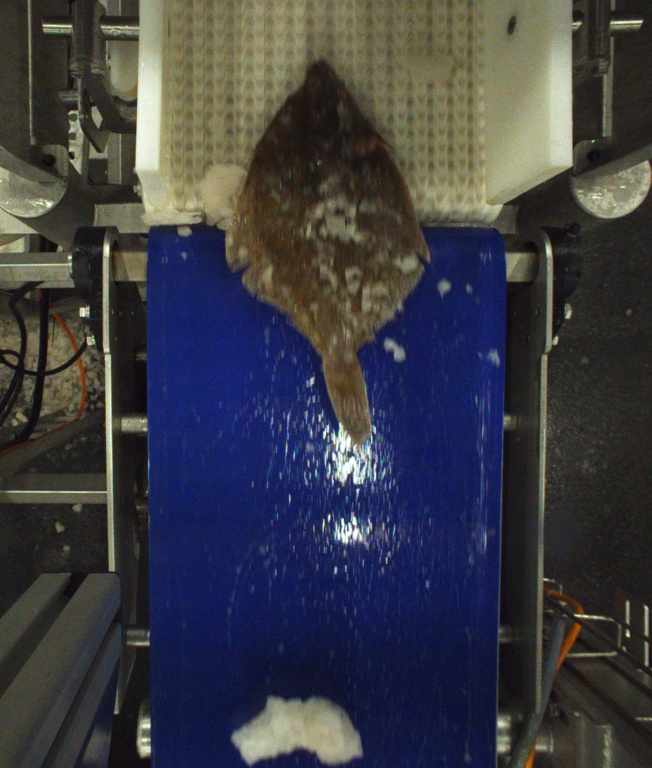PLE: (229, 58, 431, 444)
